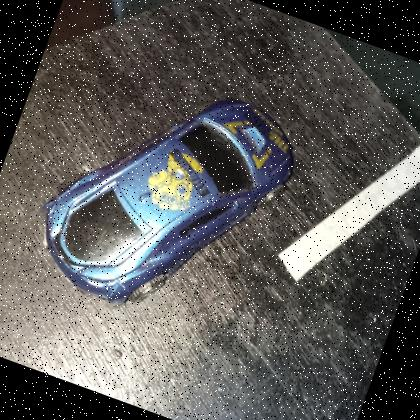Car: (18, 46, 312, 348)
